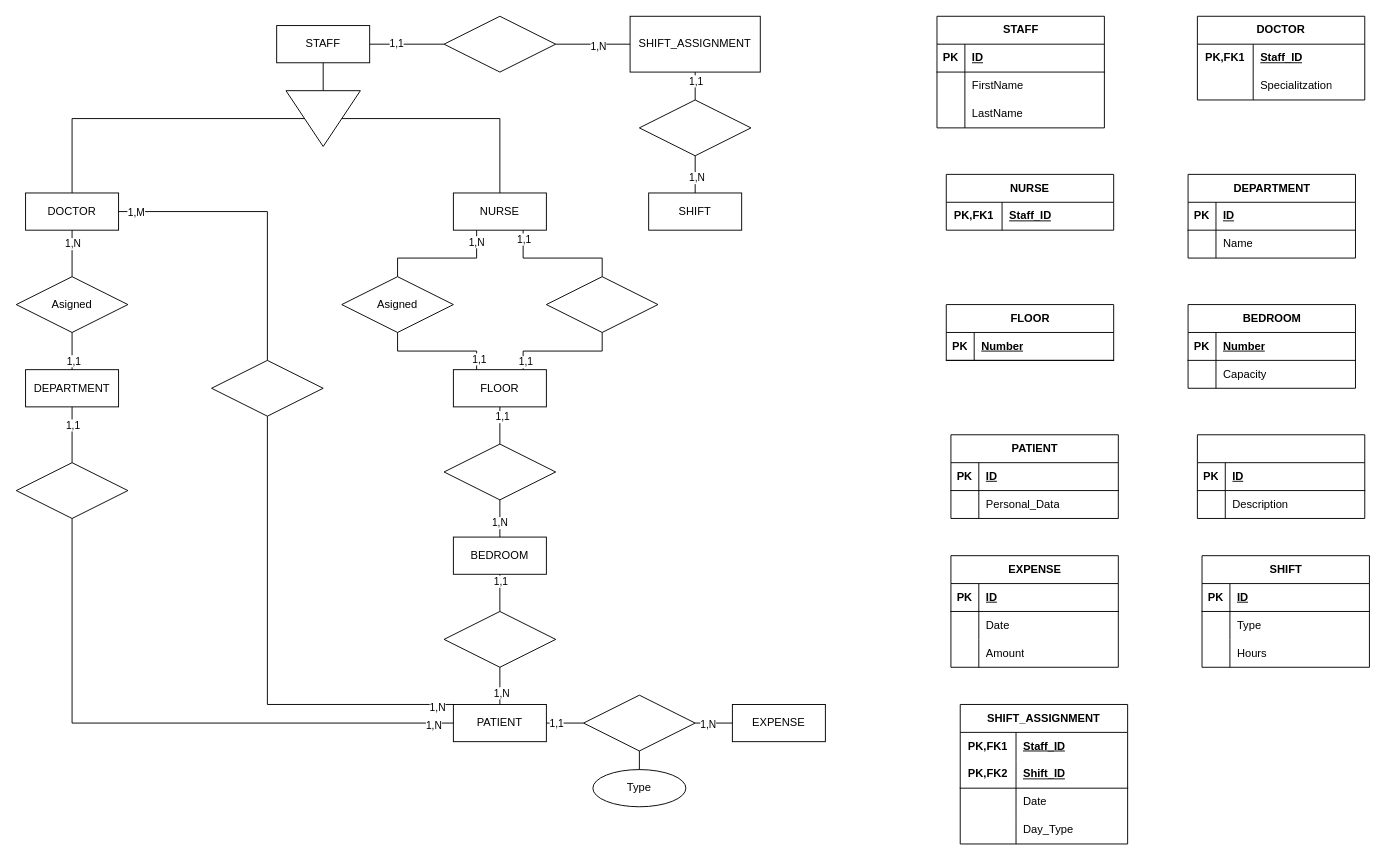
Some shapes in this 1386 by 860 pixel diagram are drawn without their labels. The shapes that lost their labels are listed below. From the top down, each one's box as (x1, y1, x2, y2) in pixels, then its label:
(443, 15, 556, 72): Works
(638, 99, 751, 156): Ocurrs
(545, 276, 658, 332): Managed
(211, 359, 323, 416): Attended
(15, 462, 128, 518): Assigned
(443, 443, 556, 500): Contains
(1196, 434, 1365, 518): EXPENSE_TYPE
(443, 611, 556, 667): Admited
(583, 694, 695, 751): Generates
